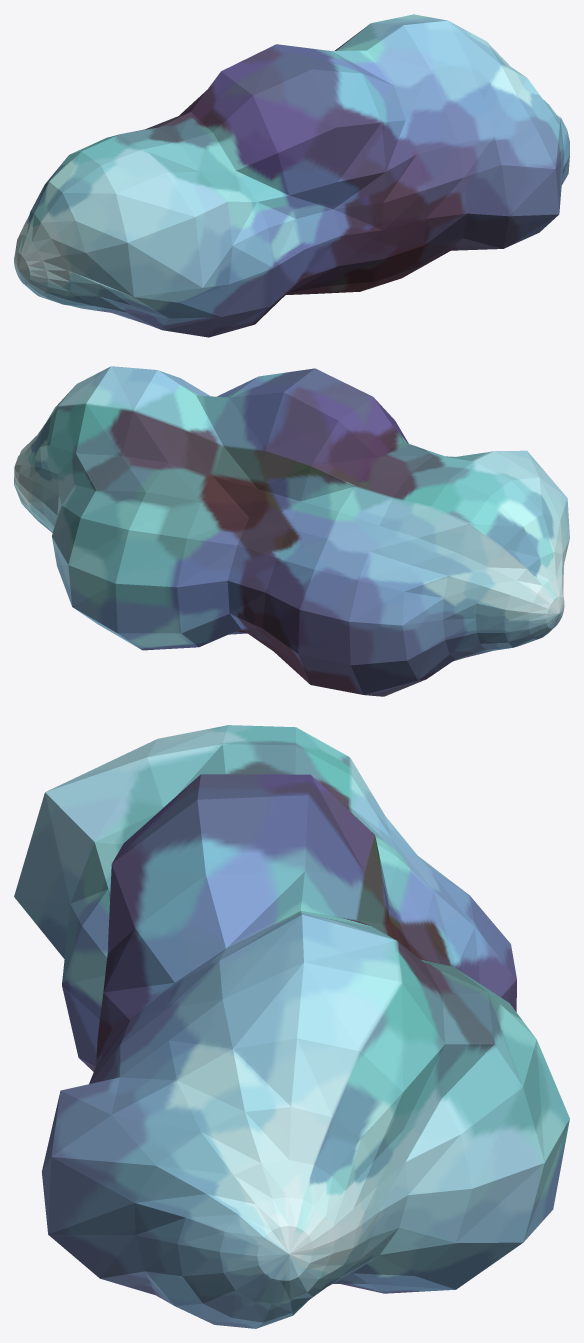
The model's file is CloudBleu.fbx.
The picture shows the model from 3 angles, top to bottom: view 1: azimuth 30°, elevation 25°; view 2: azimuth 150°, elevation 25°; view 3: azimuth 270°, elevation 25°; orthographic projection. The views are drawn at different scales.
Parts seen in each view (by area): view 1: cloudBleu; view 2: cloudBleu; view 3: cloudBleu.
Boxes of the visible parts, x1,y1,x2,y2 form: cloudBleu: (14, 14, 569, 337); cloudBleu: (14, 366, 569, 696); cloudBleu: (14, 725, 569, 1328).
Bounding box in the file's own units: 8.89 × 3.98 × 4.78.
